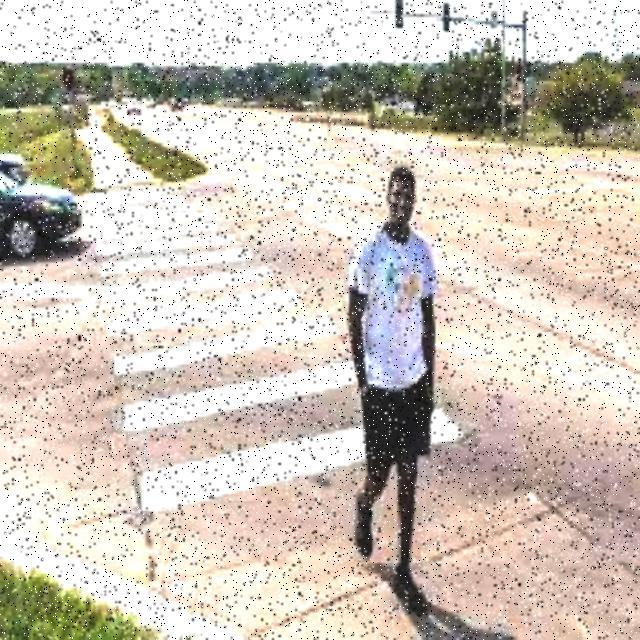crosswalk: (77, 181, 460, 493)
